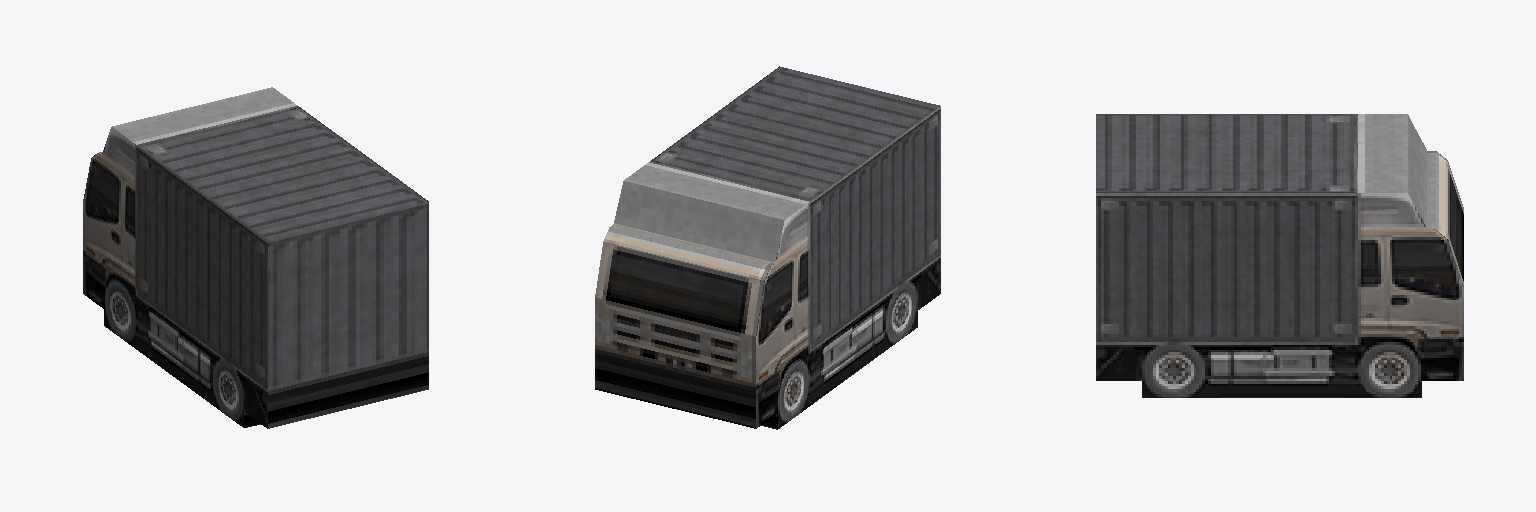
The picture shows the model from 3 angles: view 1: azimuth 30°, elevation 25°; view 2: azimuth 150°, elevation 25°; view 3: azimuth 270°, elevation 25°; orthographic projection.
Parts seen in each view (by area): view 1: truck_grey; view 2: truck_grey; view 3: truck_grey.
Boxes of the visible parts, <box> form: truck_grey: <box>83,87,428,428</box>; truck_grey: <box>595,66,940,429</box>; truck_grey: <box>1096,114,1463,397</box>.
Bounding box in the file's own units: 0.83 × 1.01 × 1.64.
1 materials, 1 textured.